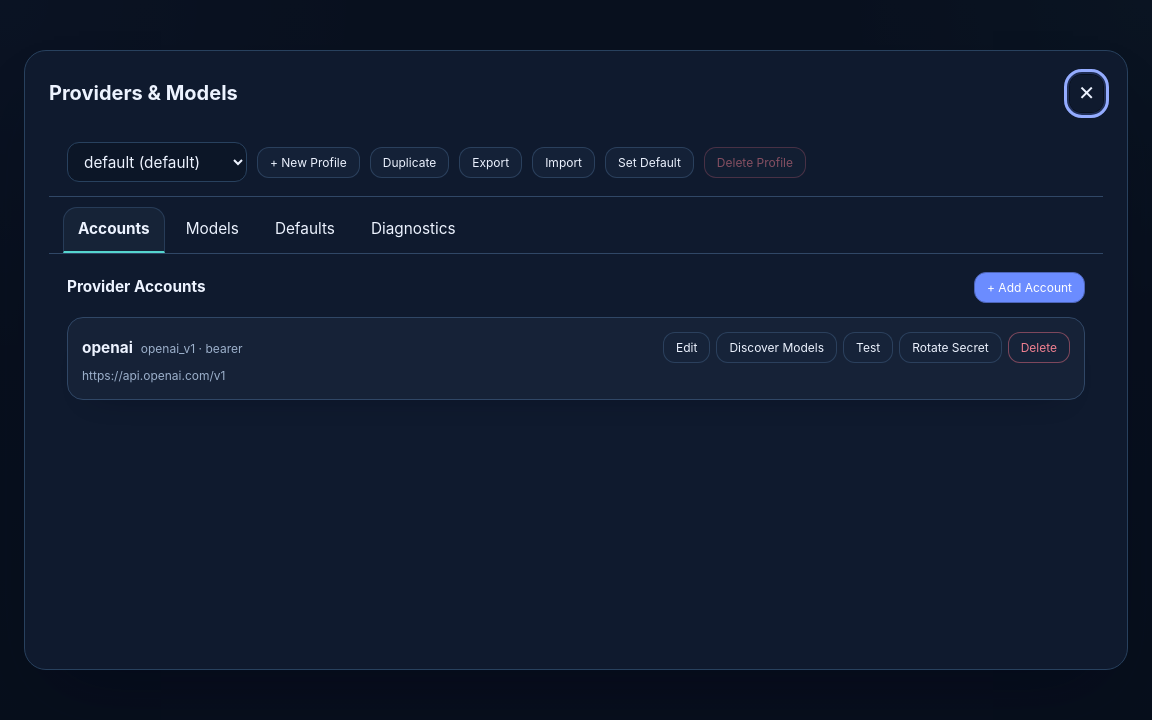
Test: ProviderManagementWorkspace › switches to models tab
Expected: the text "Provider Accounts" is shown, [67,276,206,298]
Click the button "Models".
click(212, 230)  # box [171,207,254,253]
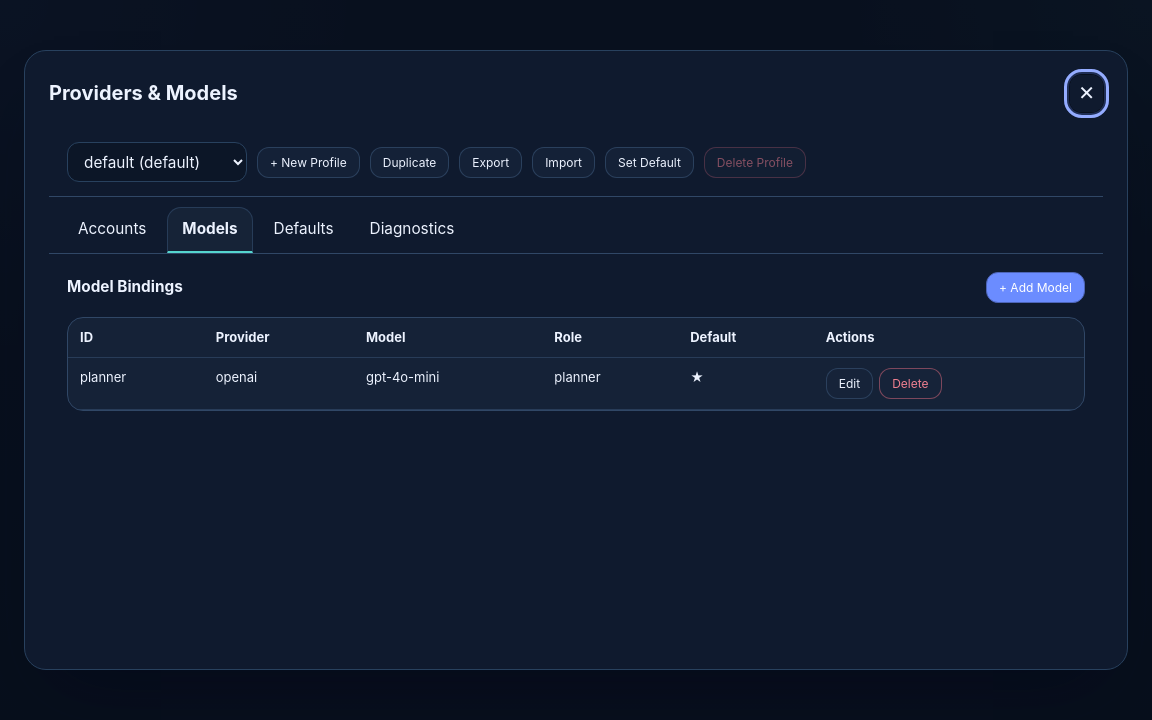
Expected: the text "Model Bindings" is shown, [67,276,183,298]
